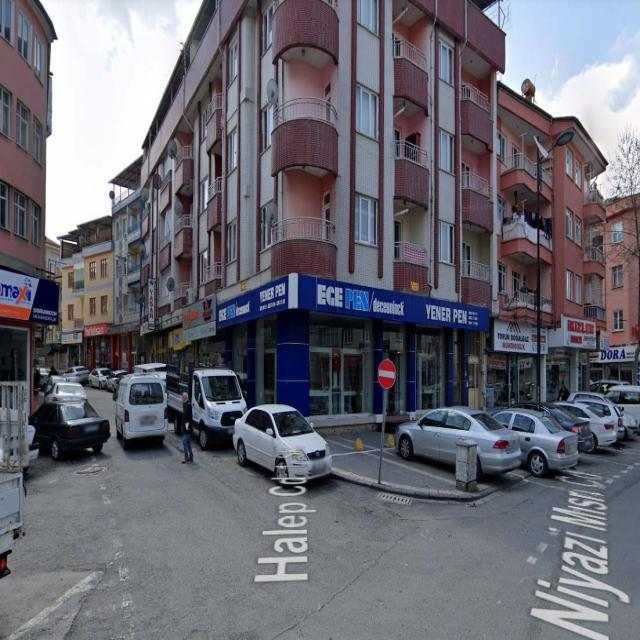girisyok: (378, 360, 396, 389)
